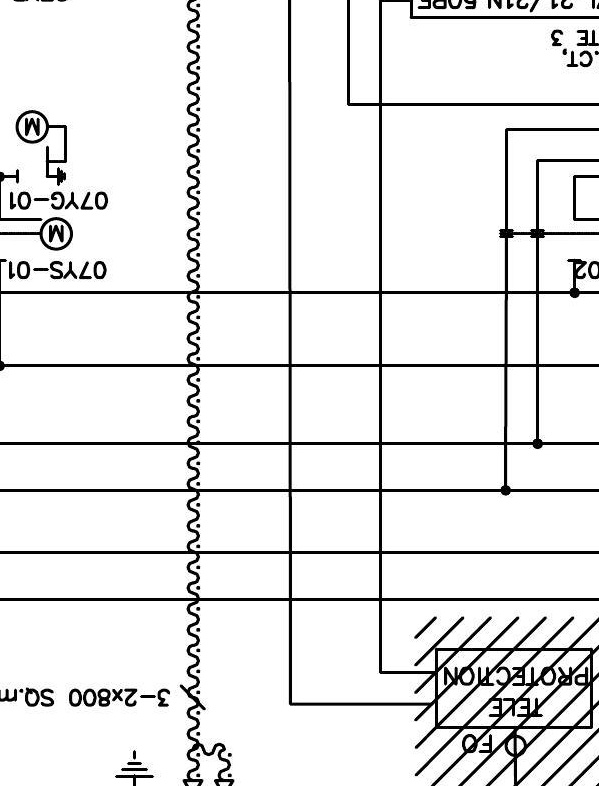115_gs_w_motor: (15, 109, 68, 187)
tele_protection: (432, 645, 596, 732)
